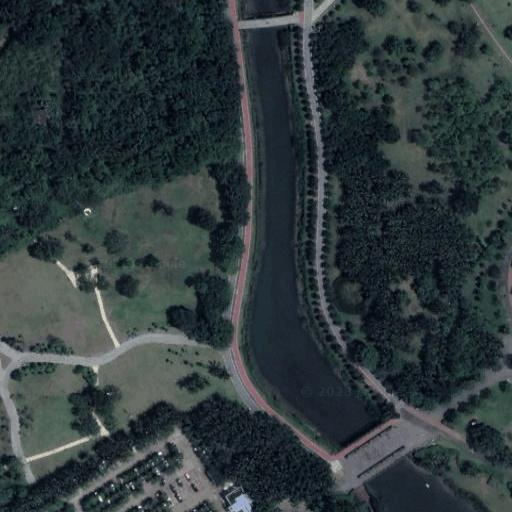building: (225, 485, 259, 512)
